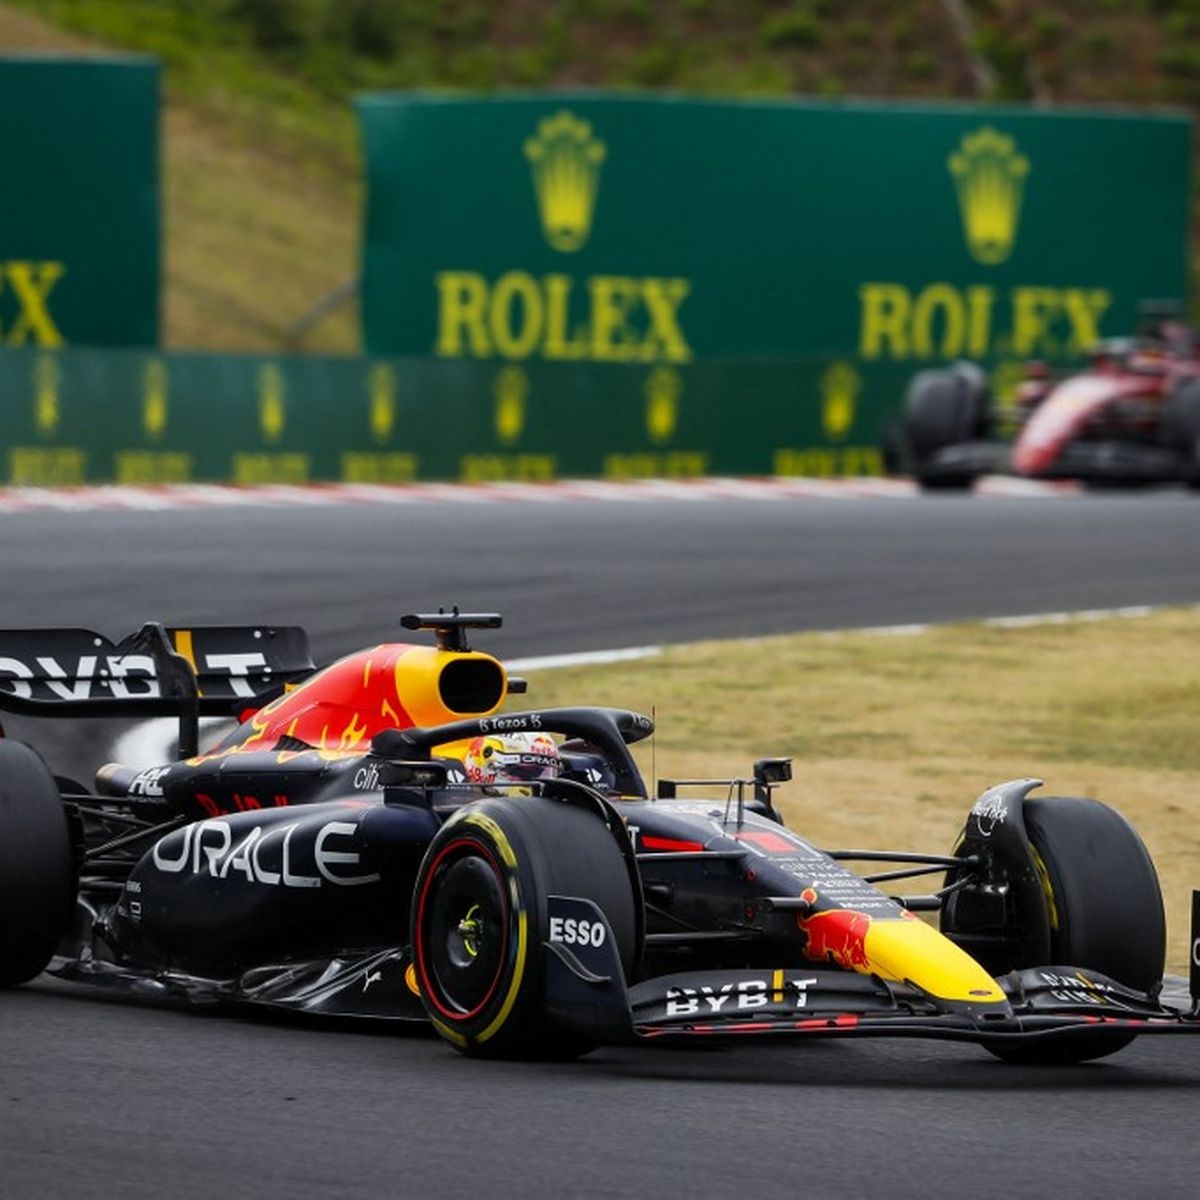Formule 1: (0, 633, 1184, 1059)
